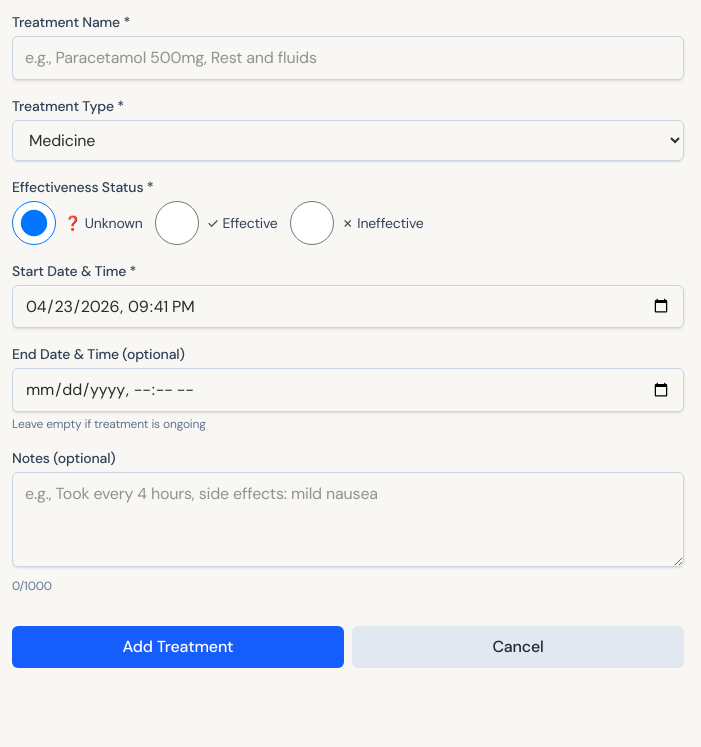
TreatmentForm Component › Form Submission › should not submit with empty name
The width and height of the screenshot is (701, 747).
Step 1. Click the button "Add Treatment" → (178, 647), box [12,626,344,668]
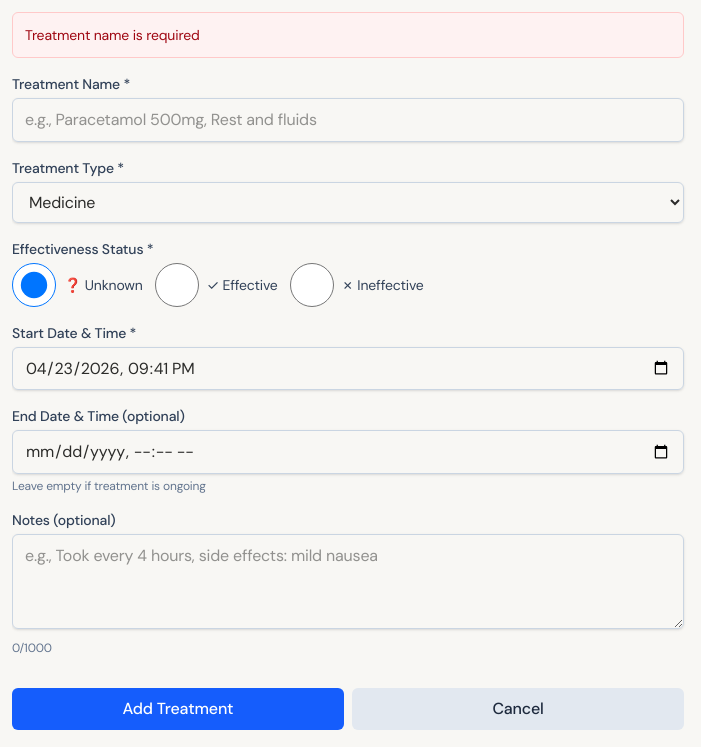
Now the text "Treatment name is required" is shown, box [25,26,200,44]
